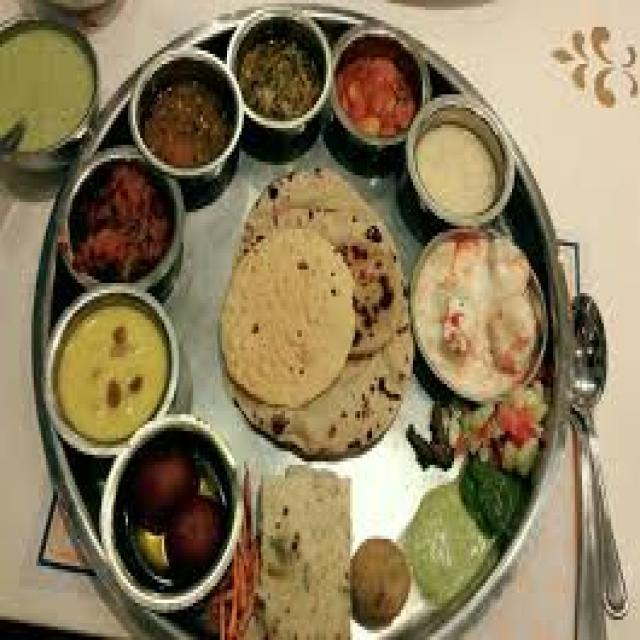dal: (47, 297, 178, 442)
papad: (213, 165, 383, 413)
pickle: (60, 150, 183, 286), (334, 39, 423, 145)
sambar-rasam: (119, 434, 223, 565), (141, 70, 233, 172)
sweet: (410, 104, 509, 227)
veg-fry: (410, 230, 552, 405), (231, 21, 329, 128)
